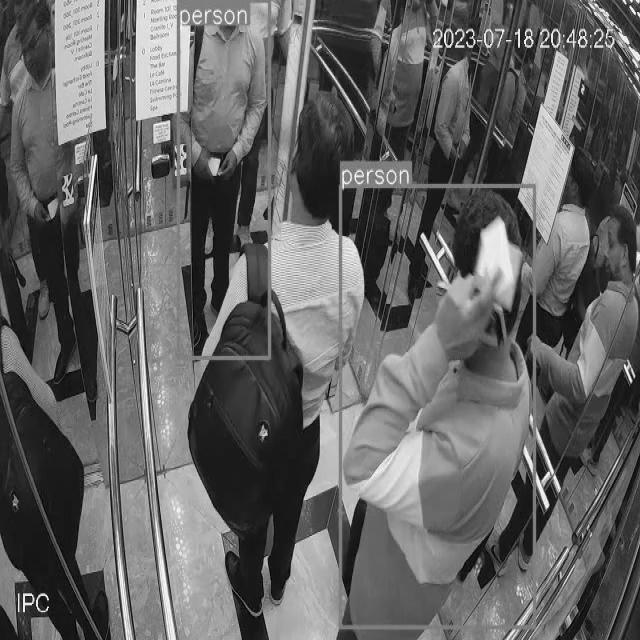person: (187, 66, 351, 640), (339, 188, 534, 626), (535, 188, 640, 619), (0, 257, 116, 640), (0, 0, 103, 413), (178, 8, 266, 358)
